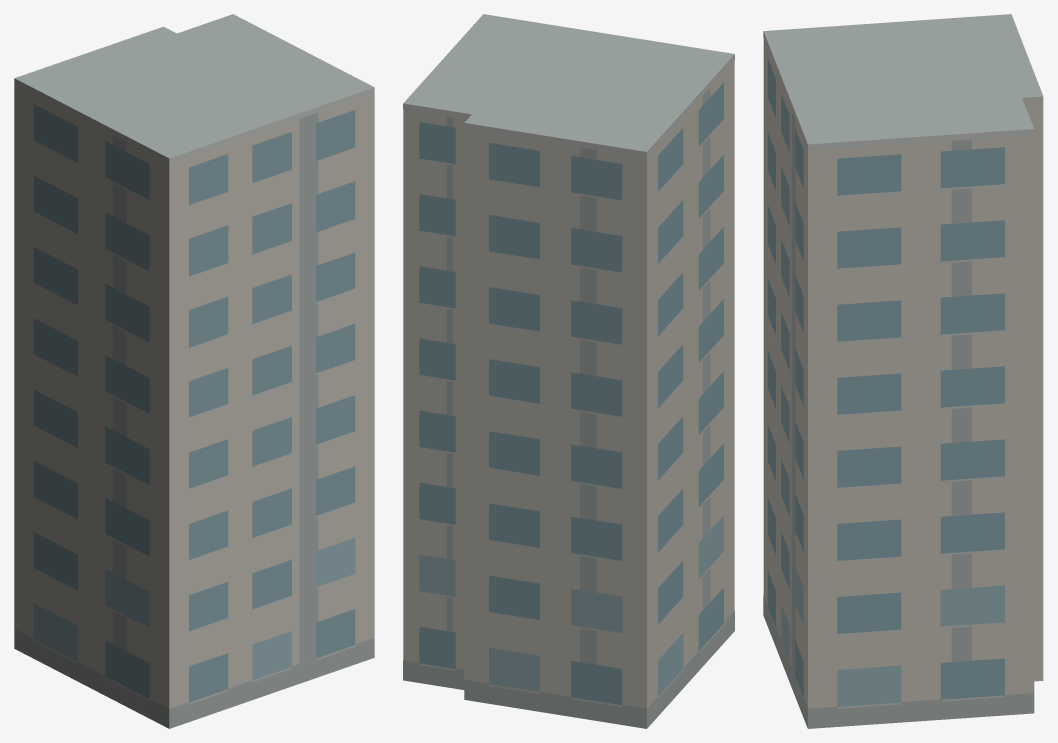
The model's file is survey-upis-33033364.glb.
3 renders of one model, left to right at view 1: azimuth 30°, elevation 25°; view 2: azimuth 150°, elevation 25°; view 3: azimuth 270°, elevation 25°, orthographic. The views are drawn at different scales.
Parts seen in each view (by area): view 1: survey-upis-33033364.tmp; view 2: survey-upis-33033364.tmp; view 3: survey-upis-33033364.tmp.
Part boxes in pixels (<box>): survey-upis-33033364.tmp: <box>14,14,374,728</box>; survey-upis-33033364.tmp: <box>403,14,734,728</box>; survey-upis-33033364.tmp: <box>763,14,1043,728</box>.
Size of the model in its own units: 11.19 by 23.35 by 10.15.
